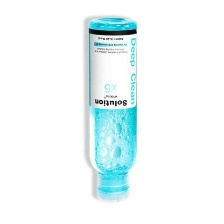cleaning_solution: (84, 14, 141, 204)
